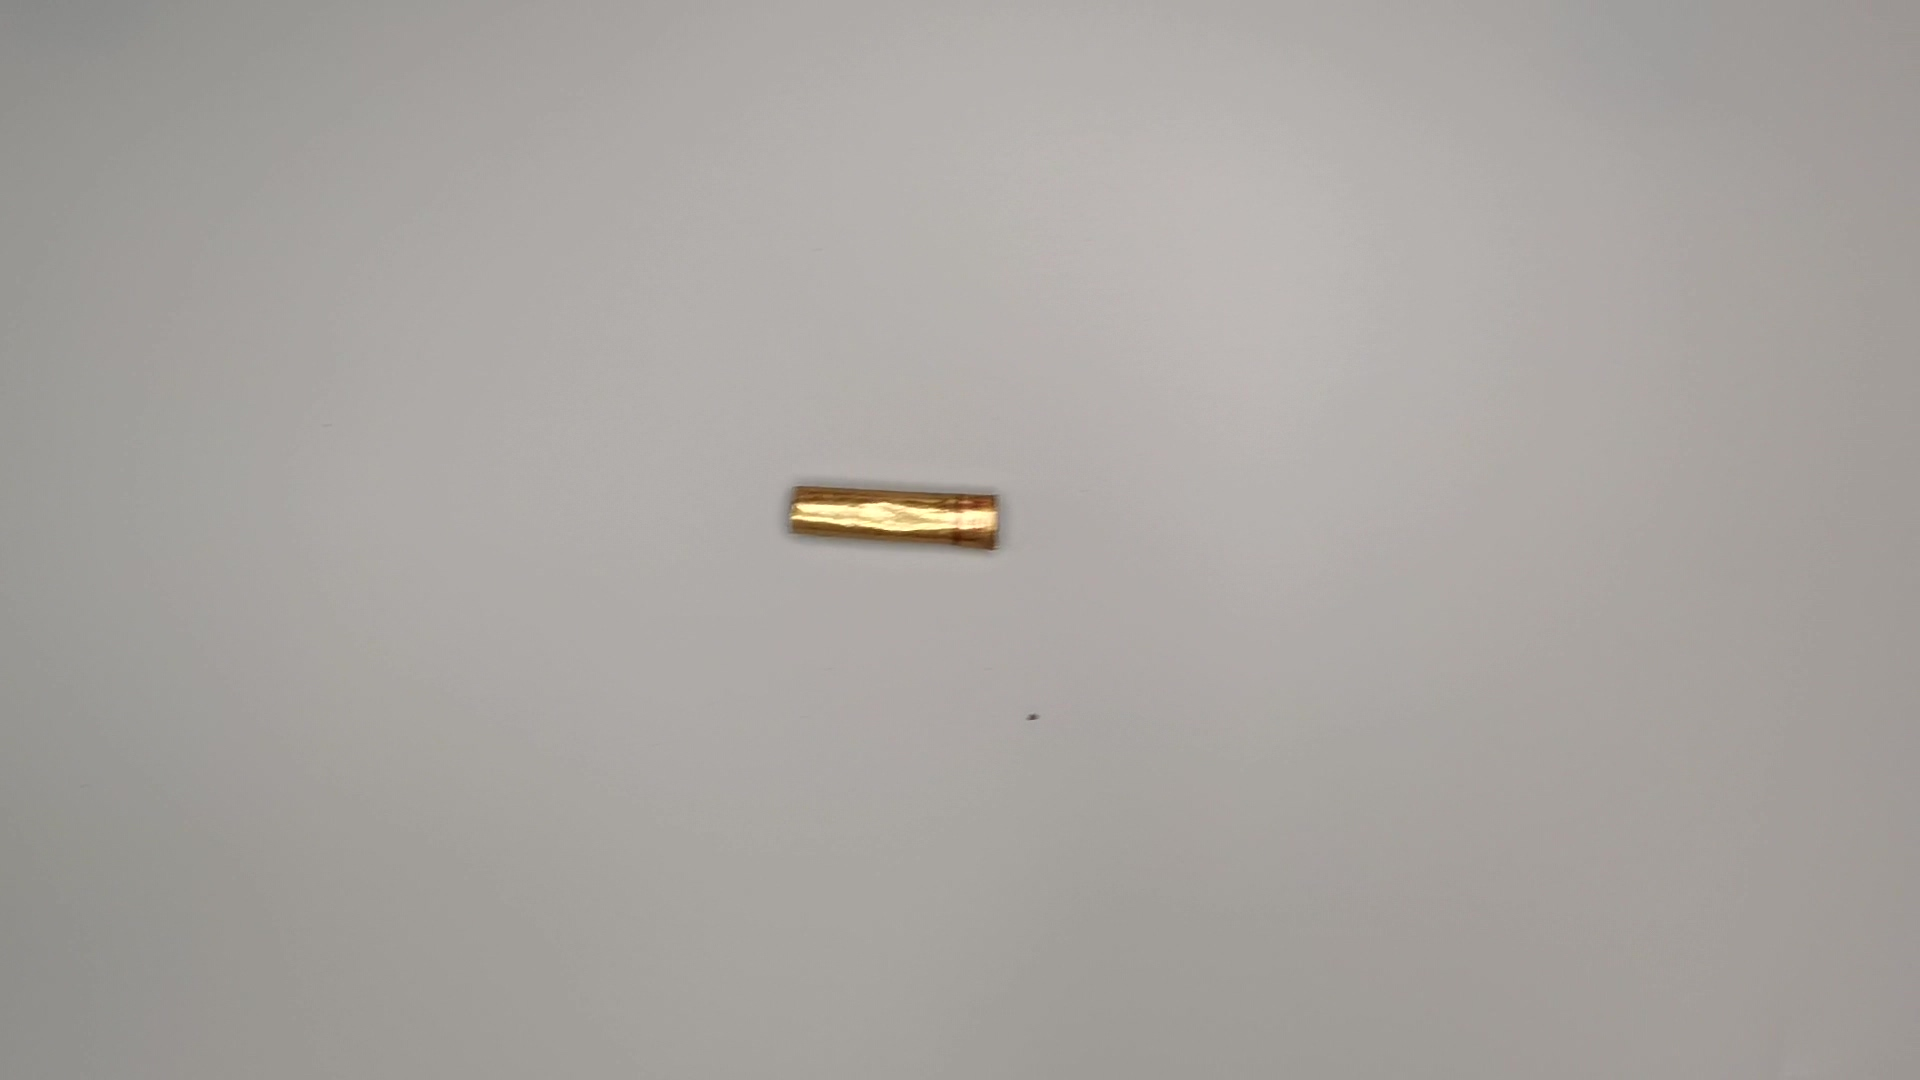cigarette: (781, 473, 1011, 563)
